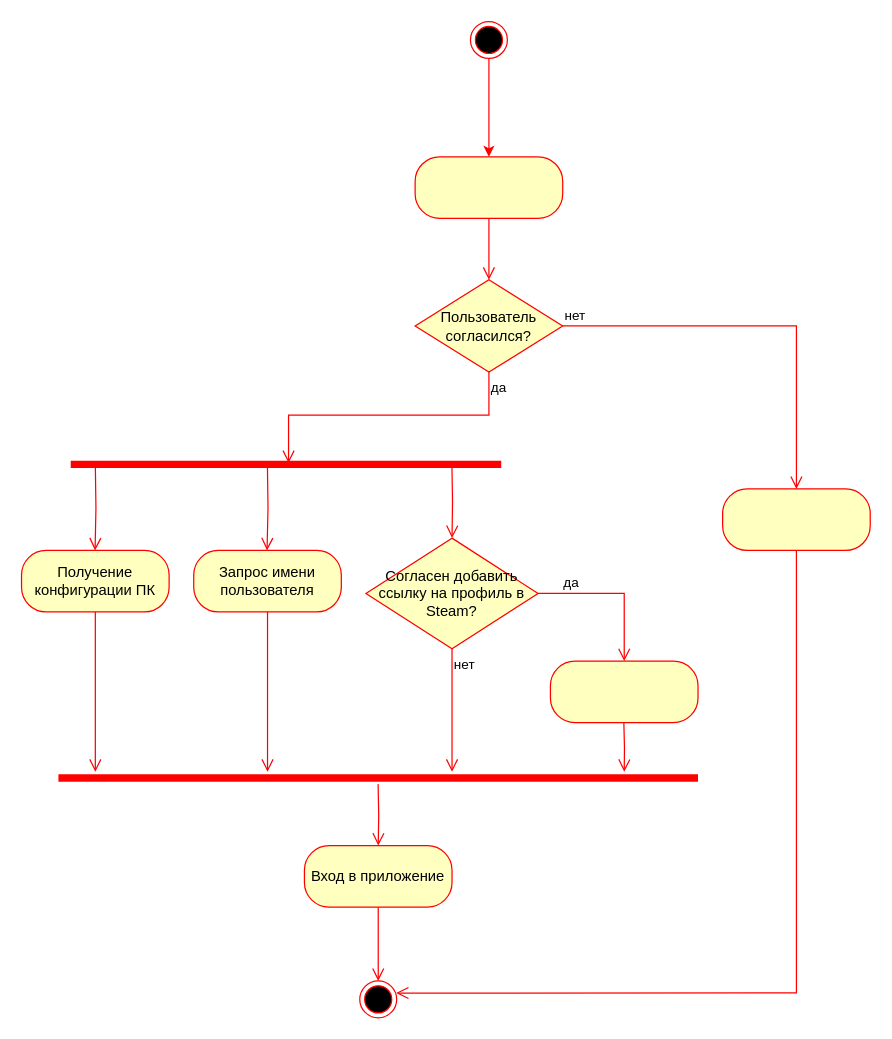
Some shapes in this 892 by 1039 pixel diagram are drawn without their labels. The shapes that lost their labels are listed below. From the top down, each one's centre as x and y in pixels, then its label:
At point (488, 187): "Вывод пользовательского соглашения".
At point (795, 519): "Закрытие приложения".
At point (623, 691): "Добавление ссылки на стим".
